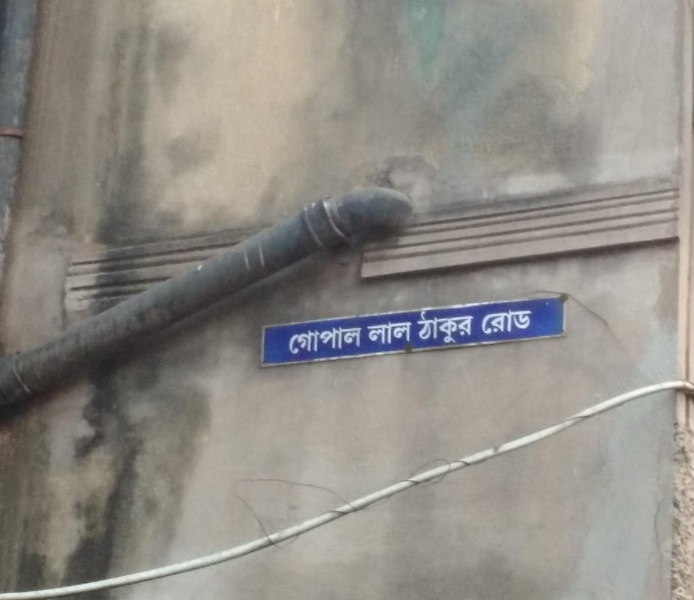text: (417, 307, 432, 348), (433, 307, 448, 348), (449, 307, 464, 348), (289, 325, 304, 356), (305, 325, 320, 356), (321, 325, 336, 356), (337, 325, 352, 356), (369, 320, 384, 347), (385, 320, 400, 347), (481, 308, 496, 335), (497, 308, 512, 335), (513, 308, 528, 335), (465, 307, 474, 348), (401, 320, 413, 347), (353, 325, 362, 356), (413, 307, 416, 348), (529, 308, 533, 335), (367, 320, 368, 347)
